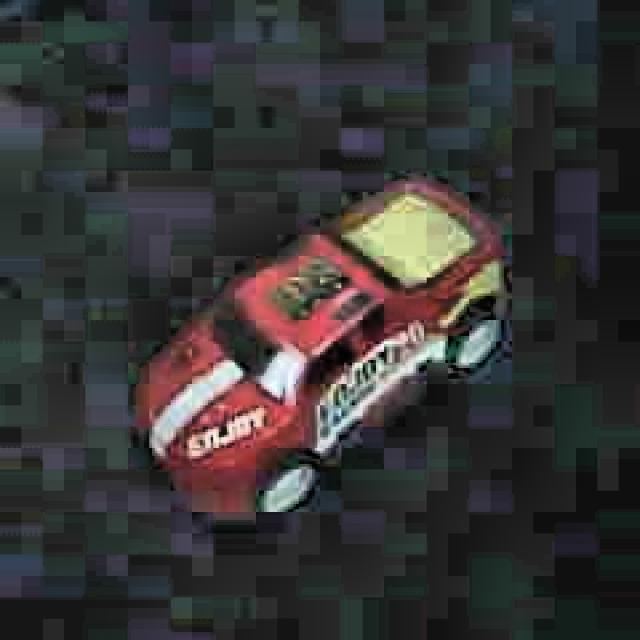car: (126, 172, 514, 534)
